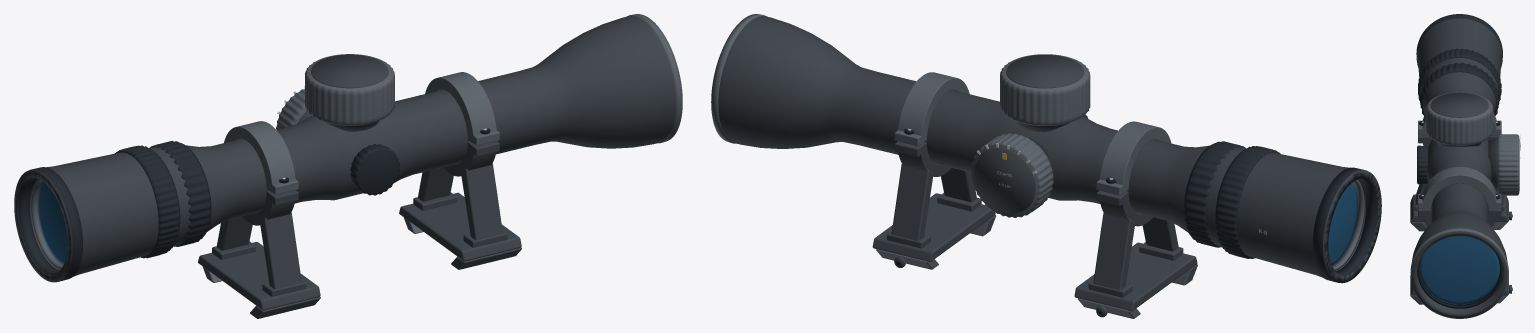
Rendered from R8_8x_Scope_X50_Rail.glb.
The picture shows the model from 3 angles, left to right: view 1: azimuth 30°, elevation 25°; view 2: azimuth 150°, elevation 25°; view 3: azimuth 270°, elevation 25°; orthographic projection. The views are drawn at different scales.
Visible parts, largest first — view 1: 01 SHELL | curved objective and long rear neck, 11 TOP CAP RIM, 05 REAR LIP | dark scallop, 25.0 LOCAL CROWN | independent seat, 25.1 LOCAL CROWN | independent seat, 09 REAR COLLAR B | fine grooves, 08 REAR COLLAR A | wide shallow grooves, 23.0.-1 SUPPORT ARM, 23.1.-1 SUPPORT ARM, 17.1 RING UPPER, 17.0 RING UPPER, 12 TOP CAP FACE (+11 smaller); view 2: 01 SHELL | curved objective and long rear neck, 11 TOP CAP RIM, 05 REAR LIP | dark scallop, 25.1 LOCAL CROWN | independent seat, 15 RIGHT CAP FACE, 25.0 LOCAL CROWN | independent seat, 09 REAR COLLAR B | fine grooves, 08 REAR COLLAR A | wide shallow grooves, 23.0.1 SUPPORT ARM, 23.1.1 SUPPORT ARM, 14 RIGHT CAP RIM, 17.1 RING UPPER (+9 smaller); view 3: 01 SHELL | curved objective and long rear neck, 04 FRONT PANE | deep blue coat, 11 TOP CAP RIM, 17.0 RING UPPER, 14 RIGHT CAP RIM, 12 TOP CAP FACE, 09 REAR COLLAR B | fine grooves, 08 REAR COLLAR A | wide shallow grooves, 02 FRONT LIP | fine rim, 03 FRONT INNER | matte rim, 05 REAR LIP | dark scallop, 16 LEFT SMALL CAP (+10 smaller).
Boxes of the visible parts, x1,y1,x2,y2 form: 01 SHELL | curved objective and long rear neck: (14,16,675,282); 11 TOP CAP RIM: (305,54,394,125); 05 REAR LIP | dark scallop: (14,167,82,282); 25.0 LOCAL CROWN | independent seat: (399,192,521,261); 25.1 LOCAL CROWN | independent seat: (198,242,320,310); 09 REAR COLLAR B | fine grooves: (115,145,180,258); 08 REAR COLLAR A | wide shallow grooves: (150,141,211,246); 23.0.-1 SUPPORT ARM: (461,163,502,240); 23.1.-1 SUPPORT ARM: (260,212,301,289); 17.1 RING UPPER: (224,121,295,193); 17.0 RING UPPER: (425,72,496,143); 12 TOP CAP FACE: (311,54,388,88); 01 SHELL | curved objective and long rear neck: (718,16,1381,283); 11 TOP CAP RIM: (1000,54,1090,125); 05 REAR LIP | dark scallop: (1312,167,1381,282); 25.1 LOCAL CROWN | independent seat: (1074,242,1197,311); 15 RIGHT CAP FACE: (974,148,1035,213); 25.0 LOCAL CROWN | independent seat: (872,193,995,261); 09 REAR COLLAR B | fine grooves: (1215,146,1280,258); 08 REAR COLLAR A | wide shallow grooves: (1184,141,1245,247); 23.0.1 SUPPORT ARM: (891,164,933,240); 23.1.1 SUPPORT ARM: (1093,213,1134,290); 14 RIGHT CAP RIM: (971,133,1053,217); 17.1 RING UPPER: (1099,121,1171,193); 01 SHELL | curved objective and long rear neck: (1411,14,1507,317); 04 FRONT PANE | deep blue coat: (1419,236,1499,304); 11 TOP CAP RIM: (1426,92,1493,145); 17.0 RING UPPER: (1422,167,1497,208); 14 RIGHT CAP RIM: (1497,134,1519,195); 12 TOP CAP FACE: (1430,92,1488,117); 09 REAR COLLAR B | fine grooves: (1418,48,1501,104); 08 REAR COLLAR A | wide shallow grooves: (1420,62,1498,115); 02 FRONT LIP | fine rim: (1410,228,1508,318); 03 FRONT INNER | matte rim: (1417,255,1502,308); 05 REAR LIP | dark scallop: (1416,14,1502,67); 16 LEFT SMALL CAP: (1417,145,1427,184).
Bounding box in the file's own units: 0.3872 × 0.1215 × 0.0814.
